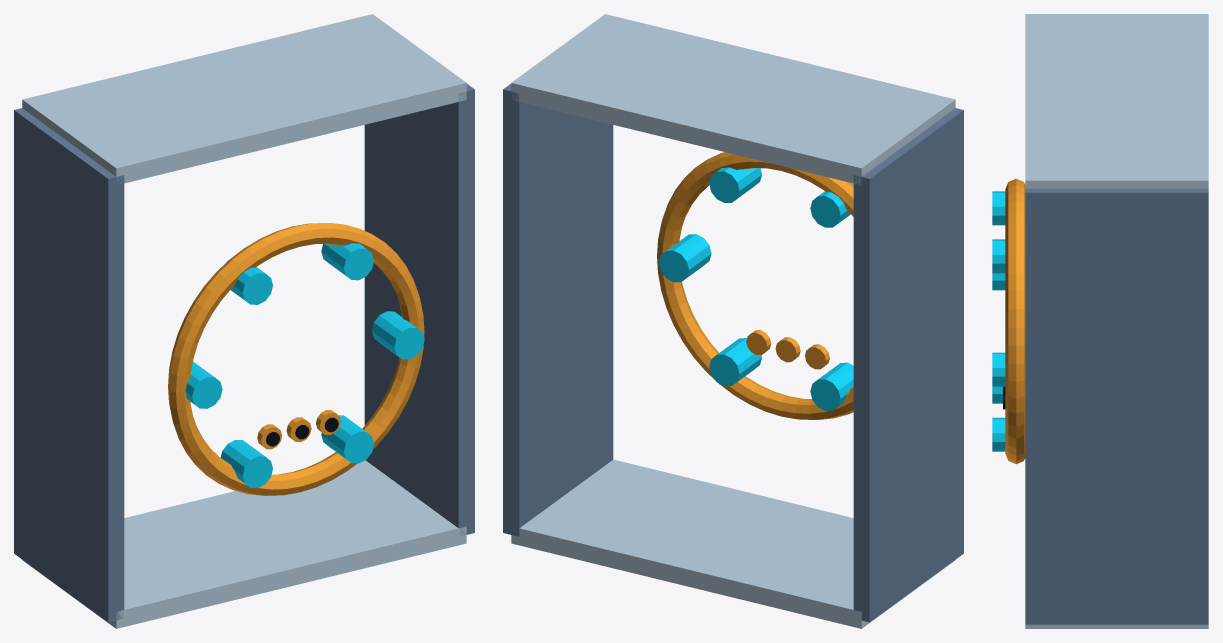
Rendered from 32_L89_DosimeterCalibrationFrame.fbx.
The picture shows the model from 3 angles, left to right: view 1: azimuth 30°, elevation 25°; view 2: azimuth 150°, elevation 25°; view 3: azimuth 270°, elevation 25°; orthographic projection. The views are drawn at different scales.
Parts seen in each view (by area): view 1: L87_DosimeterCalibrationFrame_Part_0000, L87_DosimeterCalibrationFrame_Part_0001, L87_DosimeterCalibrationFrame_Part_0002, L87_DosimeterCalibrationFrame_Part_0003; view 2: L87_DosimeterCalibrationFrame_Part_0000, L87_DosimeterCalibrationFrame_Part_0001, L87_DosimeterCalibrationFrame_Part_0002, L87_DosimeterCalibrationFrame_Part_0003; view 3: L87_DosimeterCalibrationFrame_Part_0000, L87_DosimeterCalibrationFrame_Part_0001, L87_DosimeterCalibrationFrame_Part_0002, L87_DosimeterCalibrationFrame_Part_0003.
Boxes of the visible parts, box(x1,y1,x2,y2) form: L87_DosimeterCalibrationFrame_Part_0000: box(14, 83, 474, 622); L87_DosimeterCalibrationFrame_Part_0001: box(22, 14, 466, 628); L87_DosimeterCalibrationFrame_Part_0002: box(168, 223, 424, 495); L87_DosimeterCalibrationFrame_Part_0003: box(185, 243, 424, 487); L87_DosimeterCalibrationFrame_Part_0000: box(503, 83, 963, 622); L87_DosimeterCalibrationFrame_Part_0001: box(511, 14, 955, 628); L87_DosimeterCalibrationFrame_Part_0002: box(657, 152, 853, 419); L87_DosimeterCalibrationFrame_Part_0003: box(658, 167, 853, 410); L87_DosimeterCalibrationFrame_Part_0000: box(1025, 188, 1208, 624); L87_DosimeterCalibrationFrame_Part_0001: box(1025, 14, 1208, 628); L87_DosimeterCalibrationFrame_Part_0002: box(1005, 178, 1025, 464); L87_DosimeterCalibrationFrame_Part_0003: box(992, 191, 1005, 451).
Bounding box in the file's own units: 225 × 270 × 118.
